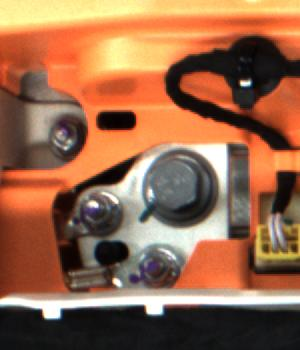nut_b: (137, 149, 221, 229)
screw_s: (130, 242, 177, 284), (79, 187, 117, 238), (47, 118, 83, 155)
